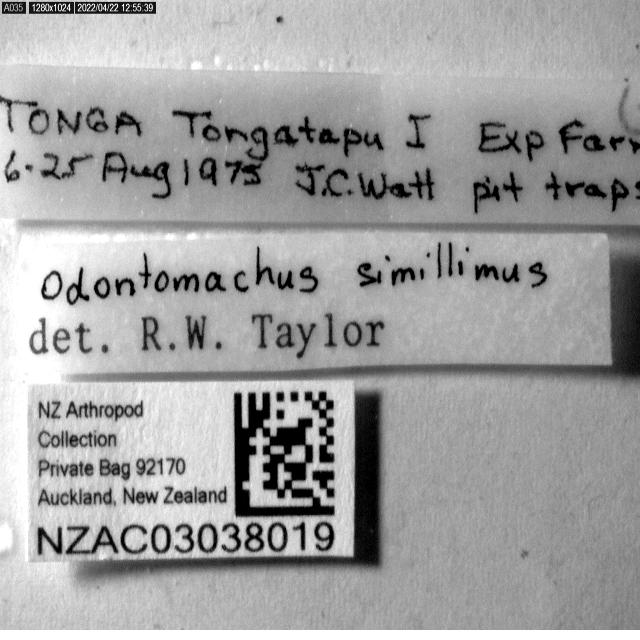hand_label: (0, 66, 640, 225)
mixed_label: (21, 231, 611, 375)
typed_label: (26, 380, 355, 561)
